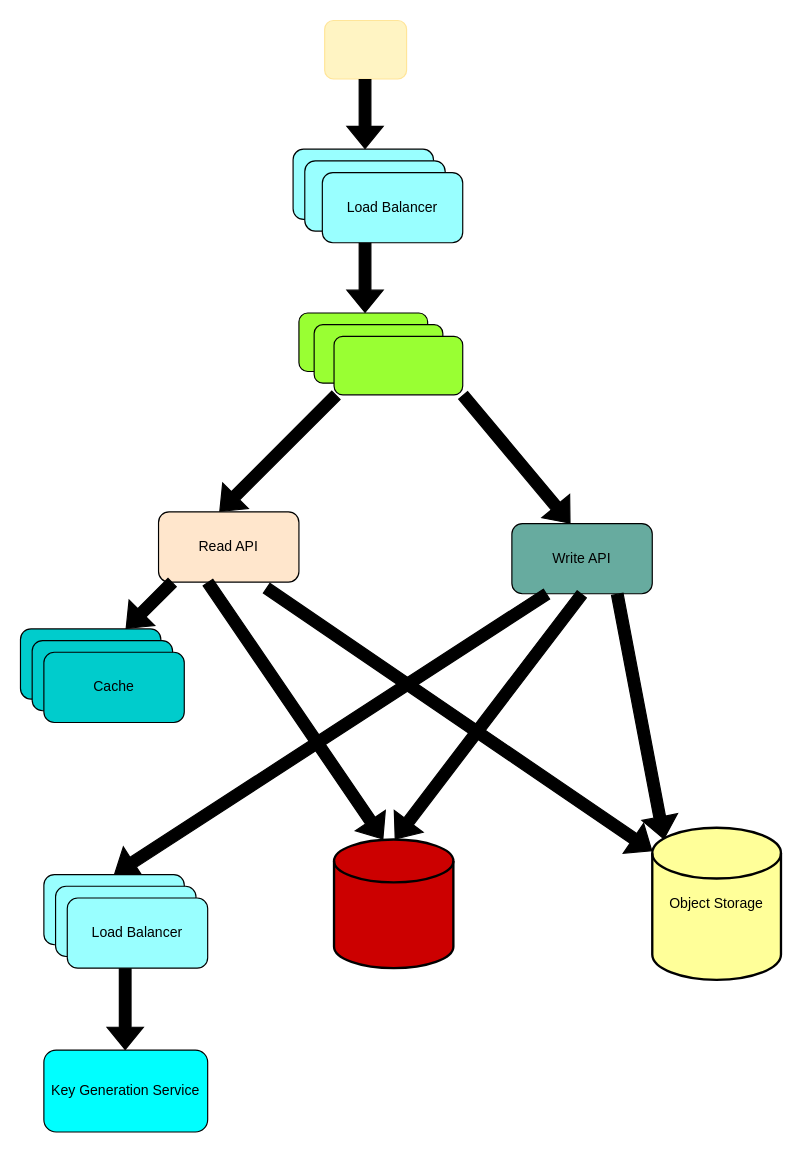
This 803x1152 diagram has some shape labels left out. The shapes that lost their labels are listed below. From the top down, each one's centre as x and y in pixels, then its label:
point (365, 49): User
point (398, 365): Web Server
point (393, 903): NoSQL Database
